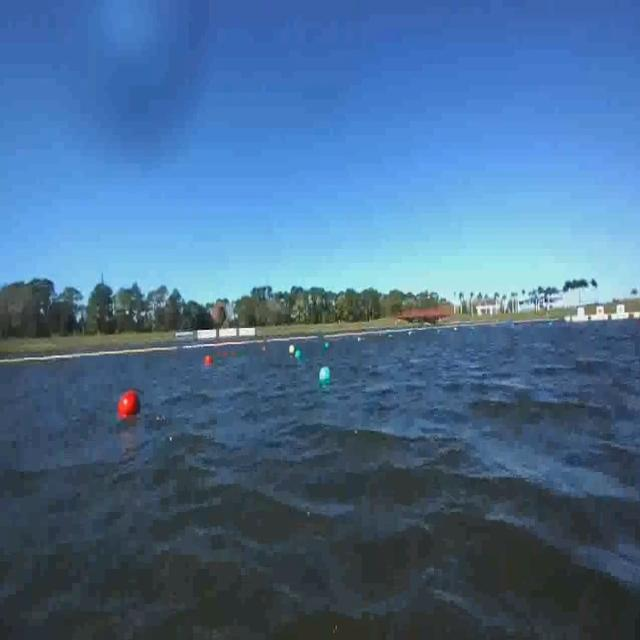green-buoy: (322, 365, 334, 383), (294, 350, 301, 361), (326, 344, 331, 352)
red-buoy: (118, 388, 142, 421), (202, 351, 214, 366)
